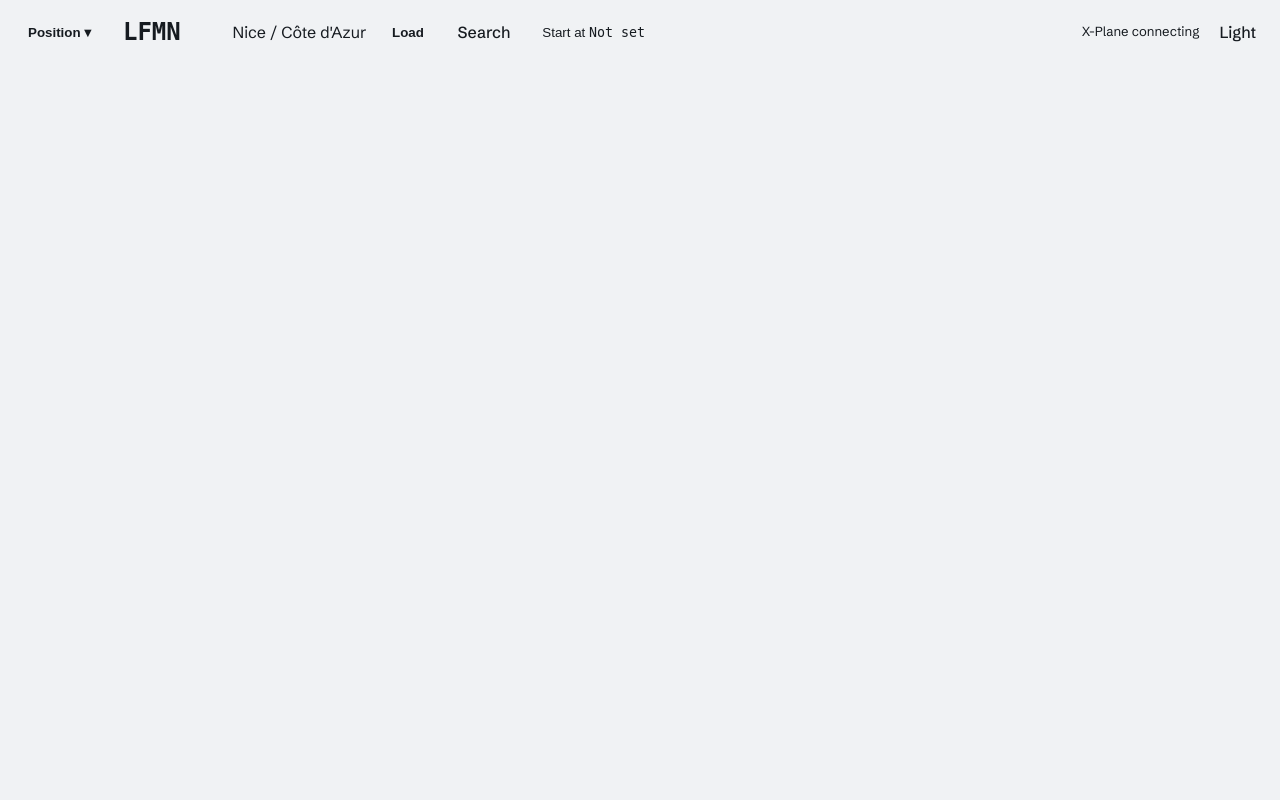
Test: StartAtPopover › lists the airport’s real runway ends, badging the one with an ILS
Click the button "Start at Not set" at (594, 32), box [530,10,657,54]
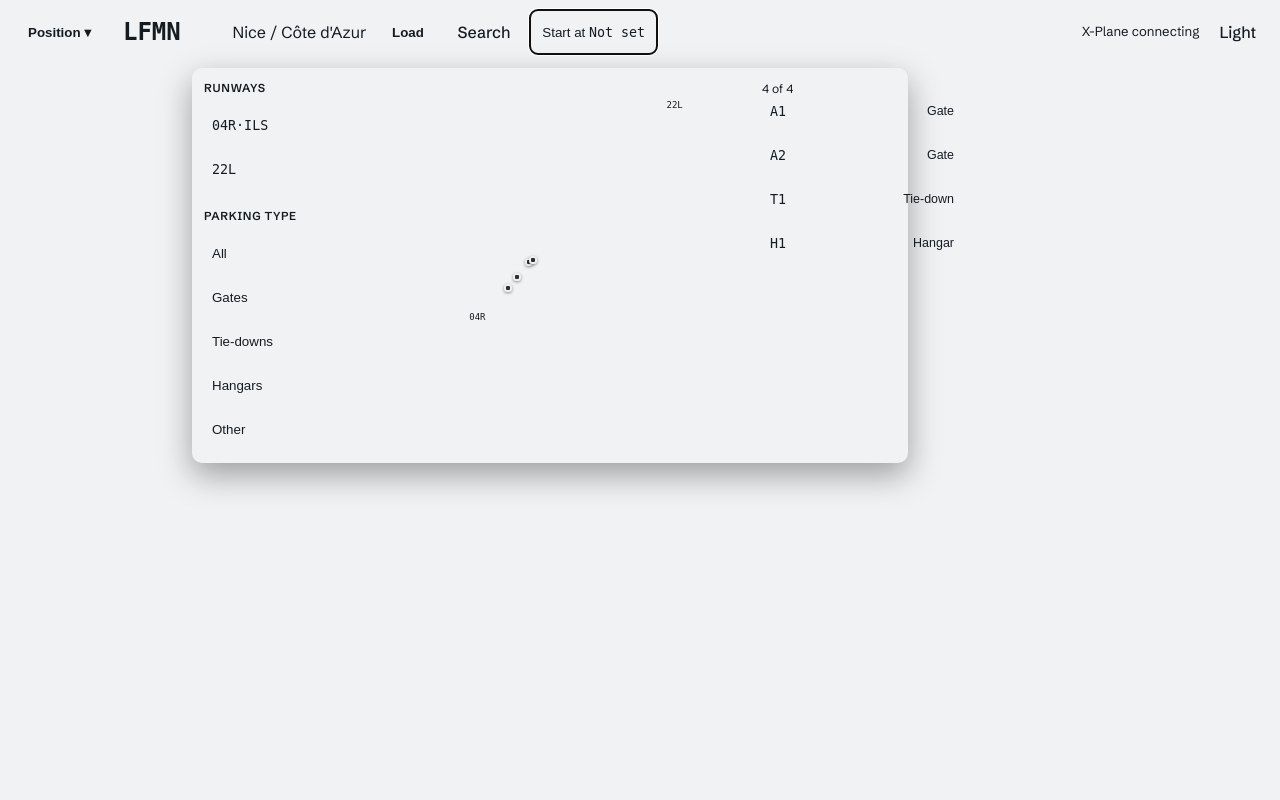
Expected: the text "04R·ILS" is shown, [212,118,268,133]
Expected: the list "04R·ILS 22L" is shown, [204,104,390,192]
